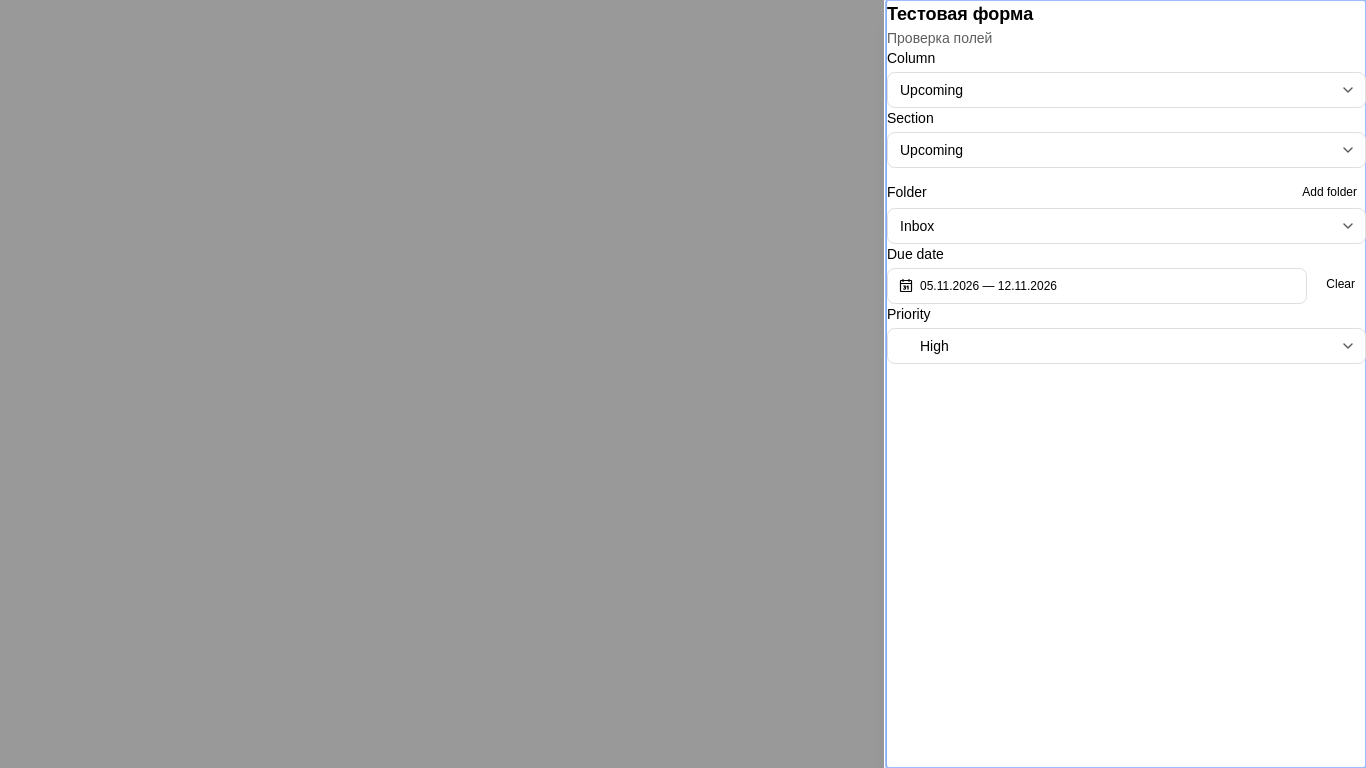
board modal schedule fields › shows the saved range and clears both dates through a user action
This screenshot has width=1366, height=768.
Check: the button "05.11.2026 — 12.11.2026" is shown, box [887,268,1307,304]
Check: the dropdown labelled "Priority" shows "High", box [887,328,1365,364]
Step 1. Click the button "Clear" → {"x": 1341, "y": 284}, box [1315,268,1365,300]
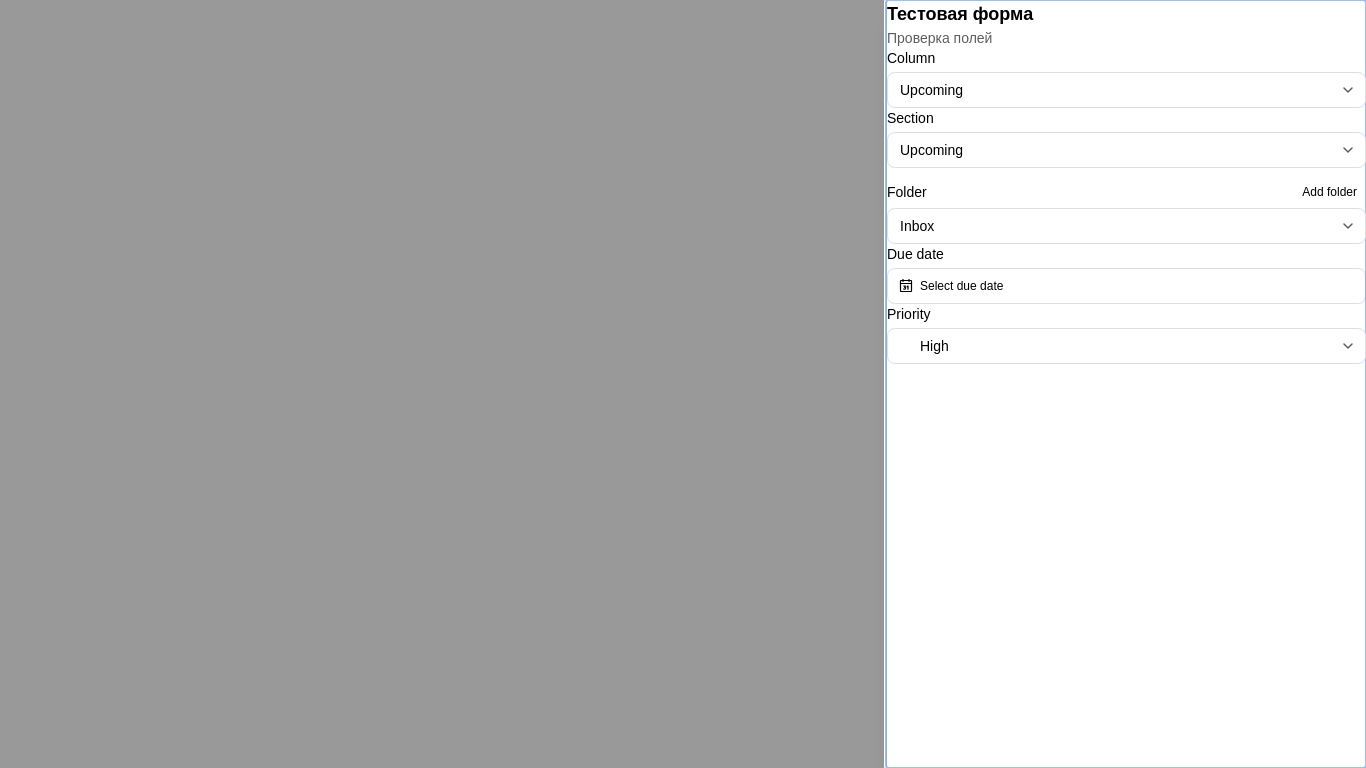
Check: the button "Select due date" is shown, box [887,268,1365,304]
